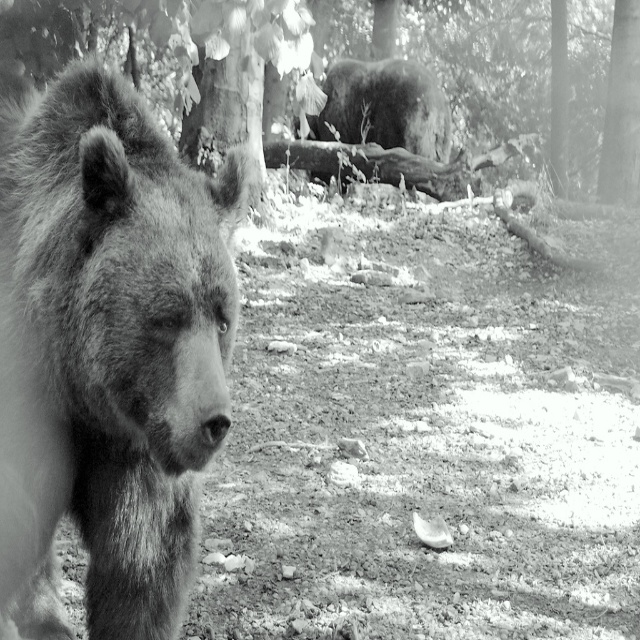Brown bear: (1, 40, 267, 638)
